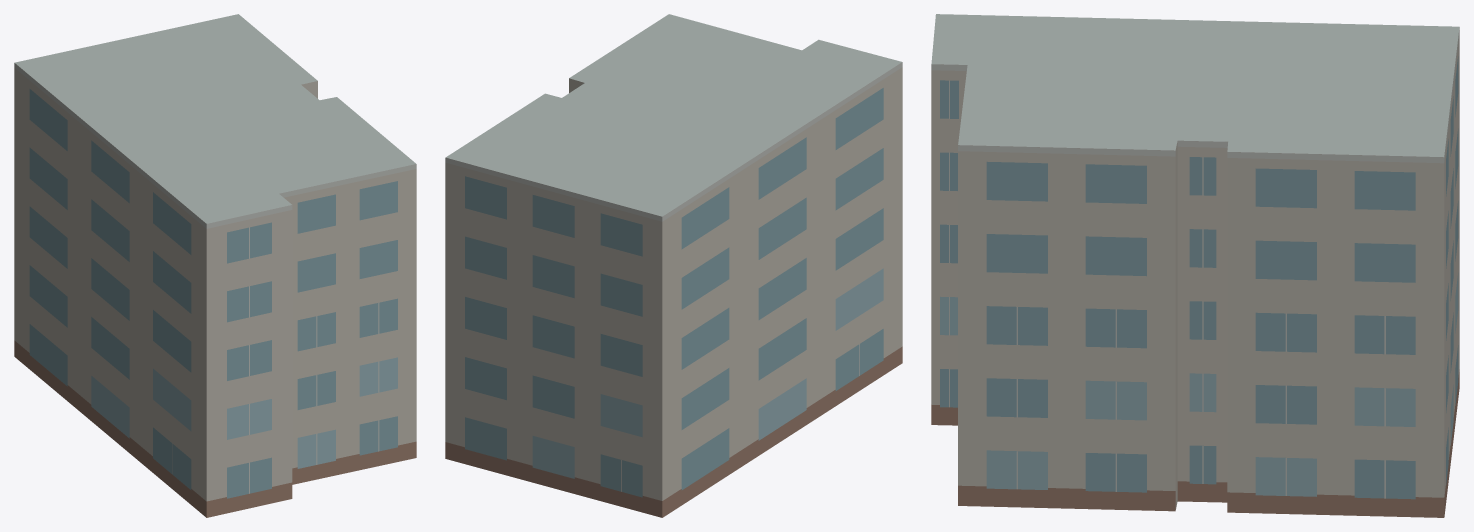
Rendered from survey-upis-32653971.glb.
3 renders of one model, left to right at view 1: azimuth 30°, elevation 25°; view 2: azimuth 150°, elevation 25°; view 3: azimuth 270°, elevation 25°, orthographic. The views are drawn at different scales.
Visible parts, largest first — view 1: survey-upis-32653971.tmp; view 2: survey-upis-32653971.tmp; view 3: survey-upis-32653971.tmp.
Boxes of the visible parts, x1,y1,x2,y2 form: survey-upis-32653971.tmp: [14, 14, 416, 517]; survey-upis-32653971.tmp: [445, 14, 902, 517]; survey-upis-32653971.tmp: [931, 14, 1459, 517].
Bounding box in the file's own units: 12.27 × 14.41 × 19.13.
